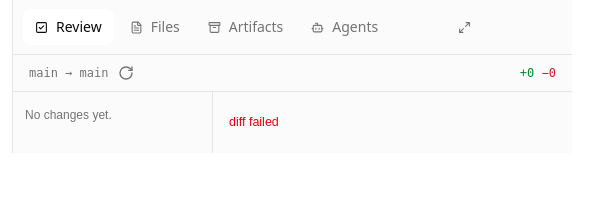
Test case: Review error keeps Refresh available and retries
Expected: the text "diff failed" is shown, [229,115,279,129]
Click the button titled "Refresh diff" at (126, 73), box [118,65,134,81]
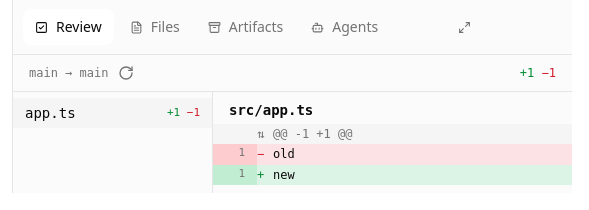
Expected: the text "diff failed" is gone
